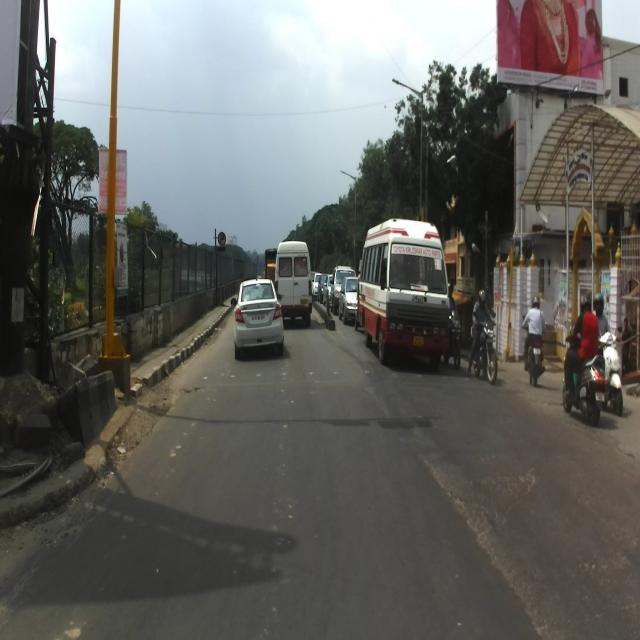Car_Maruti-Suzuki: (229, 277, 287, 354)
mini-bus: (357, 217, 453, 375)
motorcycle_Hero: (471, 310, 497, 384)
scooter: (562, 320, 607, 426), (595, 329, 625, 423)
